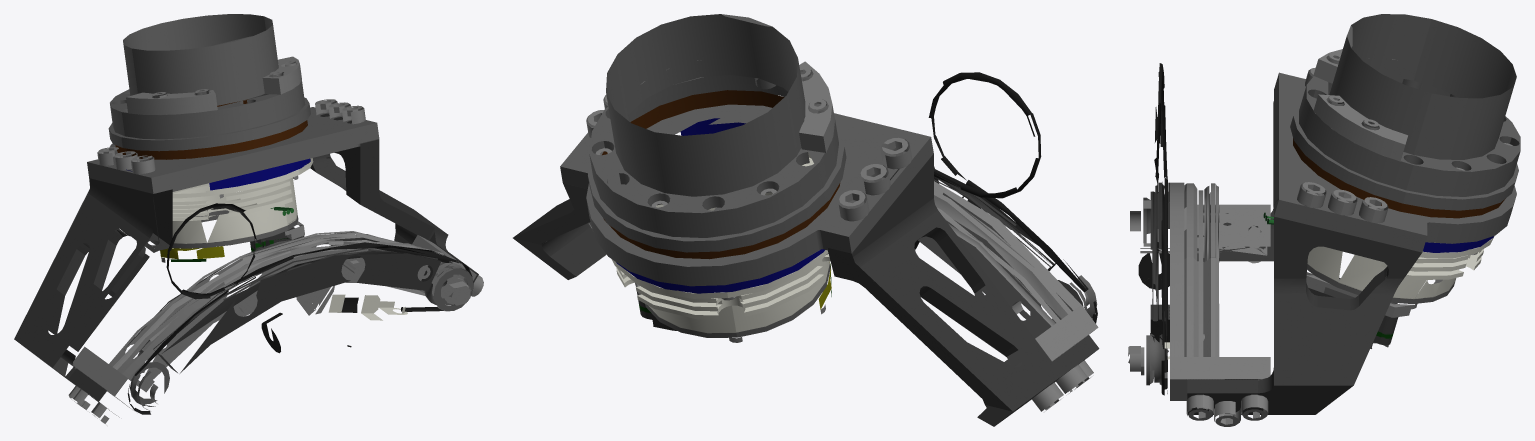
File: arml_sho1_joint.obj
The picture shows the model from 3 angles, left to right: view 1: azimuth 30°, elevation 25°; view 2: azimuth 150°, elevation 25°; view 3: azimuth 270°, elevation 25°; orthographic projection. The views are drawn at different scales.
Bounding box in the file's own units: 0.165 × 0.1156 × 0.1227.
Materials: 1 (1 with a texture image).
